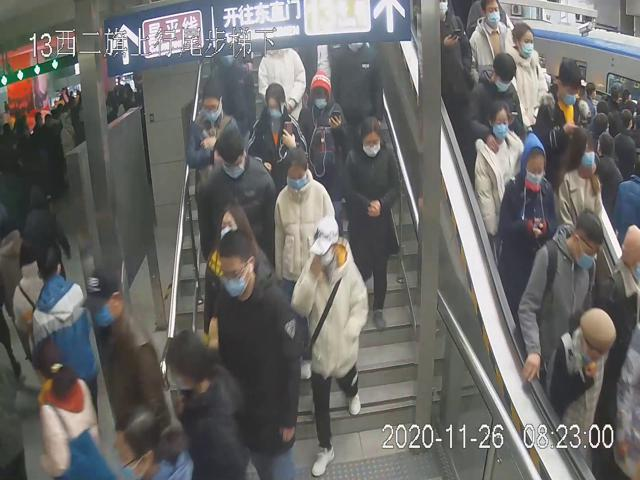person: (219, 231, 303, 480), (290, 214, 369, 477), (516, 206, 604, 384), (342, 109, 403, 332), (196, 120, 276, 277), (202, 201, 270, 350), (495, 128, 553, 300), (273, 145, 335, 287), (473, 93, 528, 234), (183, 76, 238, 205), (243, 80, 308, 186), (292, 61, 347, 184)
